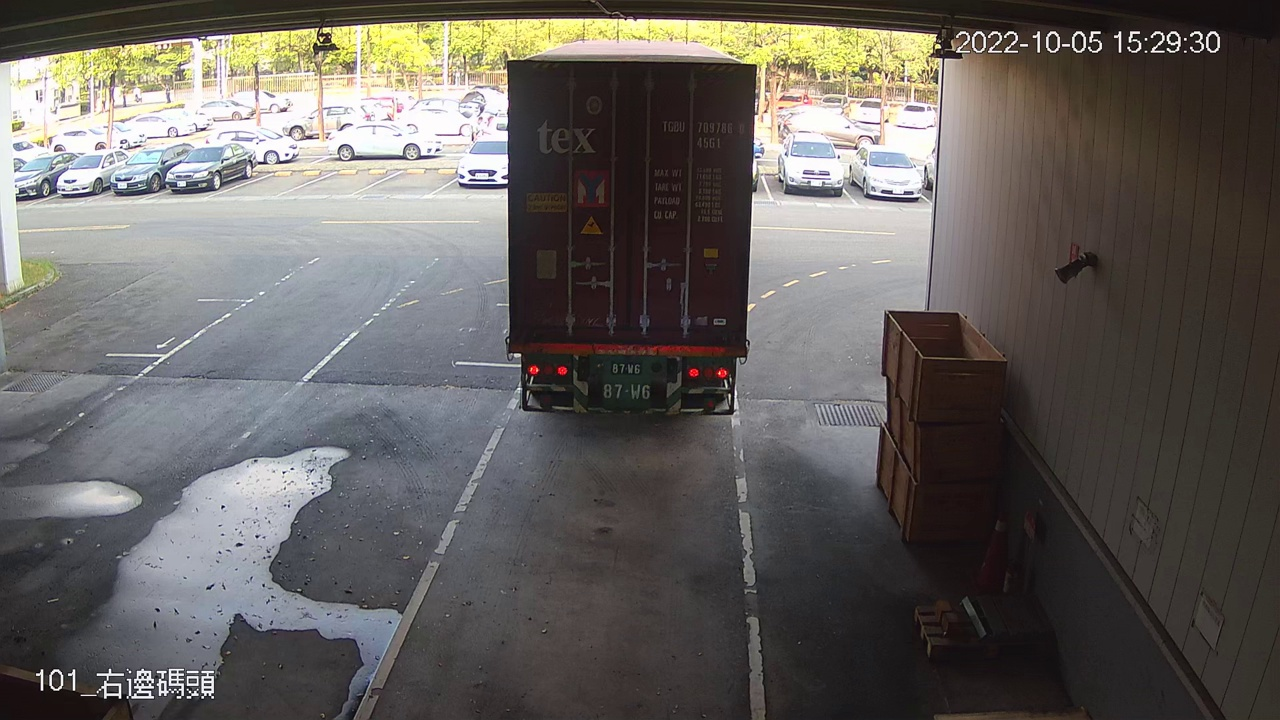container: (656, 114, 749, 153)
